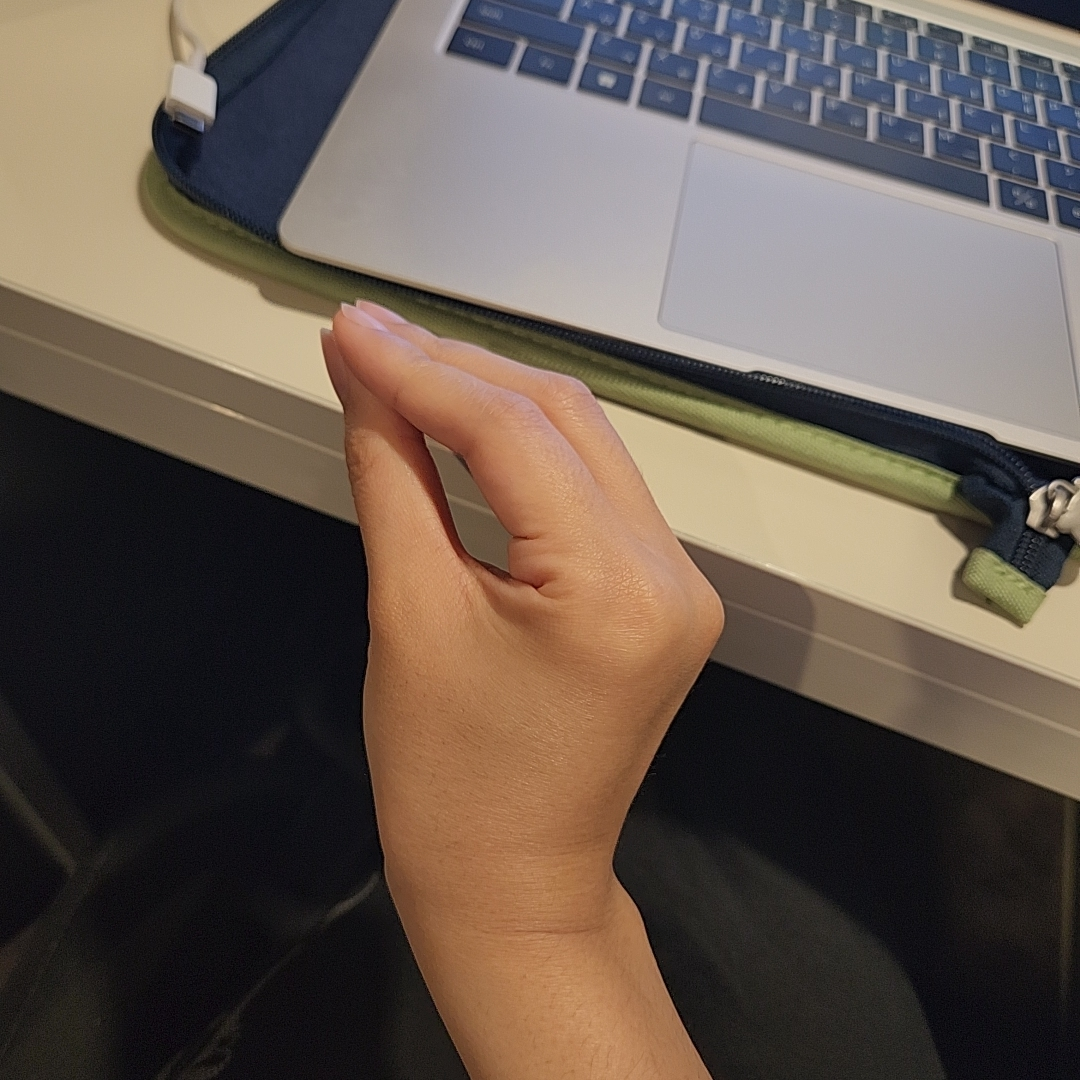happy: (320, 297, 730, 889)
